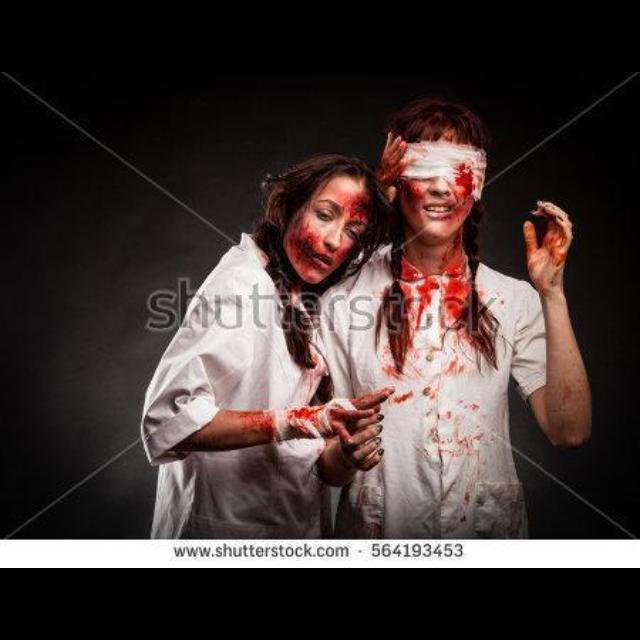blood: (381, 331, 528, 539), (189, 390, 391, 452), (401, 255, 472, 334), (401, 140, 488, 204), (397, 177, 476, 239), (525, 201, 575, 289), (284, 203, 324, 290), (341, 180, 373, 236)
